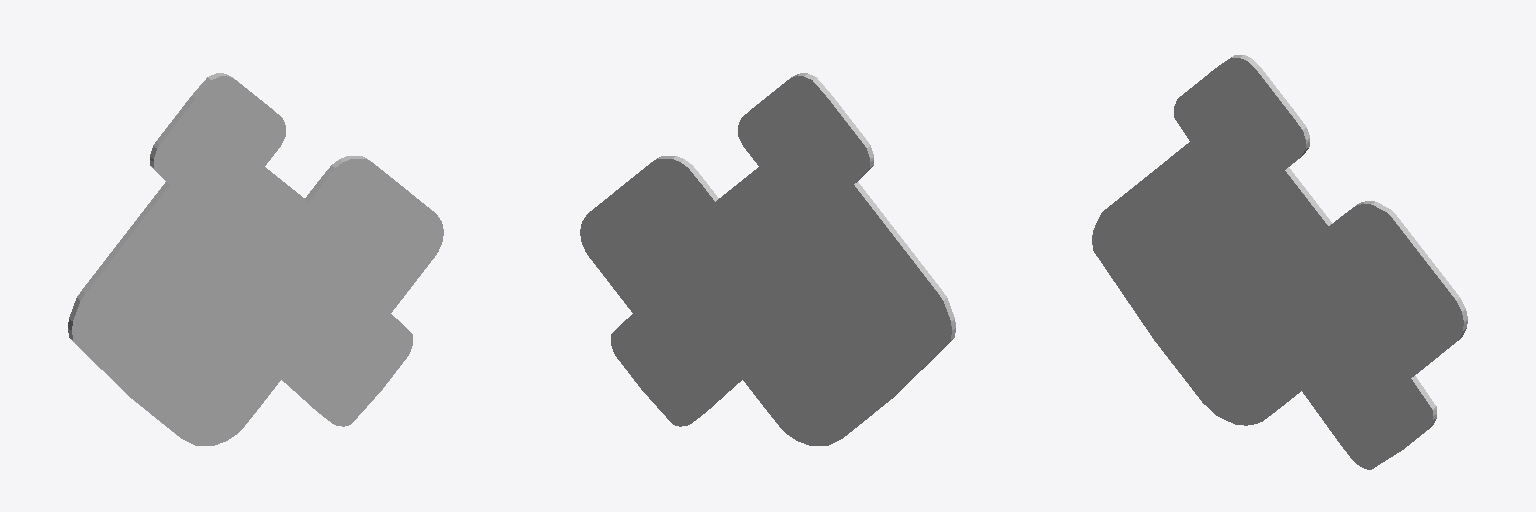
File: Leaf_1.obj
3 views of the same model, side by side, from view 1: azimuth 30°, elevation 25°; view 2: azimuth 150°, elevation 25°; view 3: azimuth 330°, elevation 25° (orthographic).
Parts seen in each view (by area): view 1: Leaf1; view 2: Leaf1; view 3: Leaf1.
Part boxes in pixels (x1,y1,x2,y2): Leaf1: (68, 73, 443, 445); Leaf1: (580, 73, 955, 445); Leaf1: (1092, 55, 1467, 469).
Size of the model in its own units: 56.6 by 55.37 by 1.08.